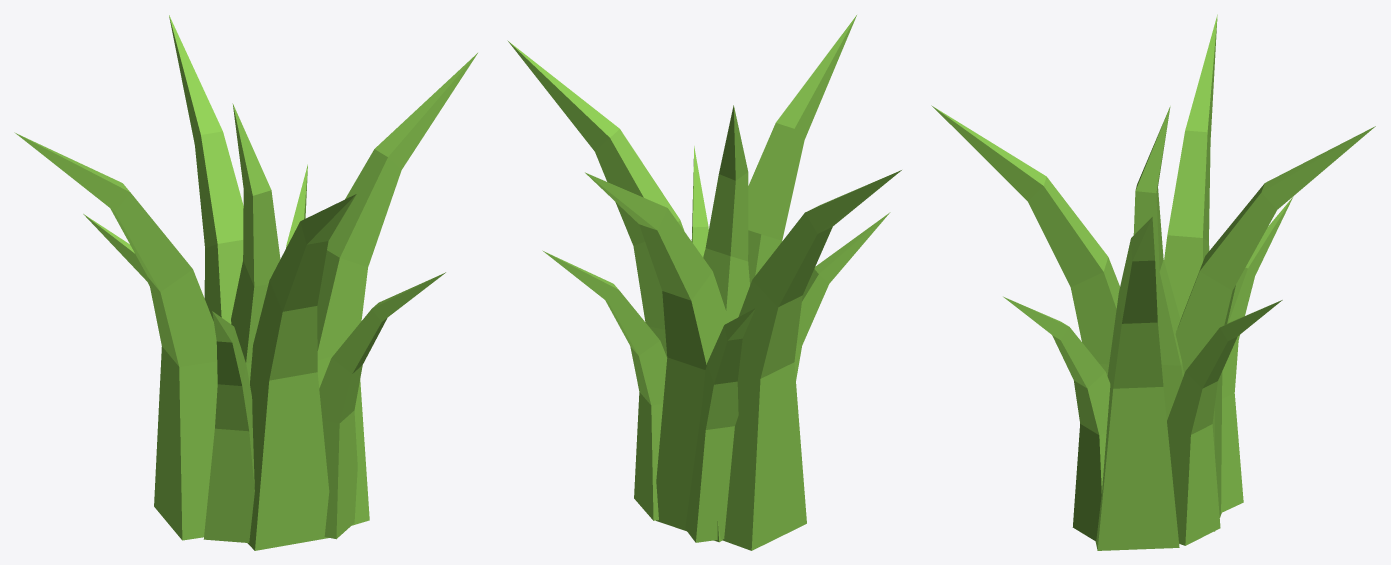
Rendered from bush.fbx.
3 views of the same model, side by side, from view 1: azimuth 30°, elevation 25°; view 2: azimuth 150°, elevation 25°; view 3: azimuth 270°, elevation 25° (orthographic). The views are drawn at different scales.
Parts seen in each view (by area): view 1: bush; view 2: bush; view 3: bush.
Part boxes in pixels (box(x1,y1,x2,y2)): bush: box(14, 15, 477, 550); bush: box(507, 15, 901, 550); bush: box(931, 14, 1375, 550).
Bounding box in the file's own units: 459 × 421 × 426.
